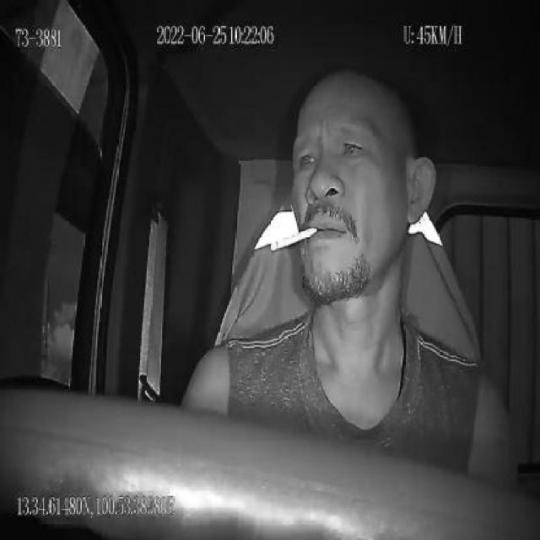smoking: (267, 225, 317, 253)
